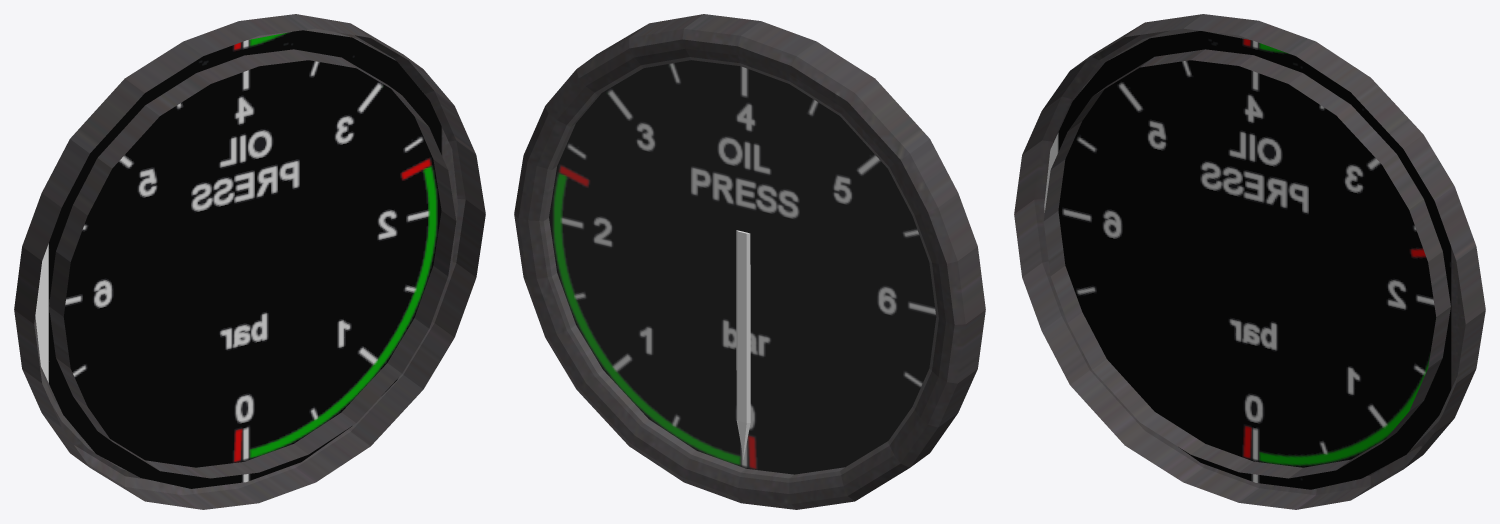
File: oilpress.obj
The picture shows the model from 3 angles, left to right: view 1: azimuth 30°, elevation 25°; view 2: azimuth 150°, elevation 25°; view 3: azimuth 330°, elevation 25°; orthographic projection.
Visible parts, largest first — view 1: face, fond; view 2: face, vitre, fond, needle; view 3: face, fond.
Part boxes in pixels (box(x1,y1,x2,y2)): face: box(35, 30, 458, 488); fond: box(14, 14, 485, 509); face: box(549, 60, 936, 474); vitre: box(540, 57, 938, 481); fond: box(514, 14, 985, 509); needle: box(736, 230, 750, 459); face: box(1044, 31, 1465, 489); fond: box(1014, 14, 1485, 509).
Size of the model in its own units: 0.0521 by 0.0515 by 0.0047.
Materials: 2 (1 with a texture image).
